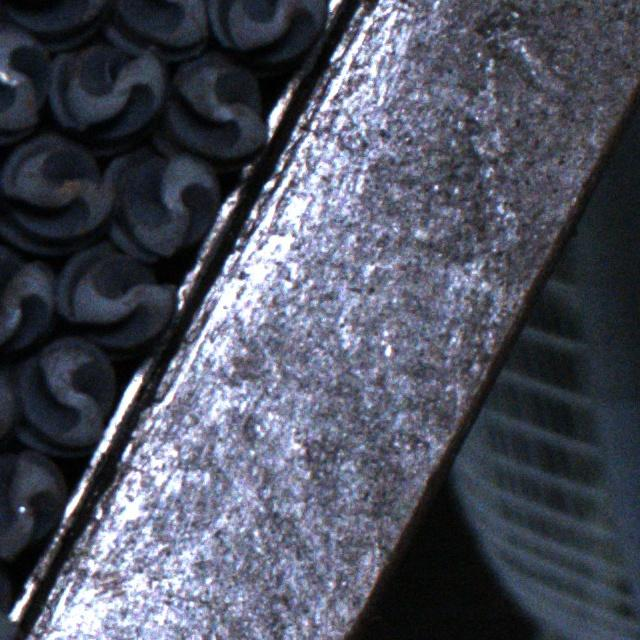tool_b: (55, 240, 174, 357), (104, 148, 222, 264), (0, 136, 112, 258), (48, 40, 166, 154), (150, 50, 265, 164), (8, 334, 116, 454), (209, 0, 327, 74), (0, 227, 55, 358), (0, 450, 64, 561), (104, 0, 212, 60), (0, 20, 49, 144), (2, 0, 114, 49)
